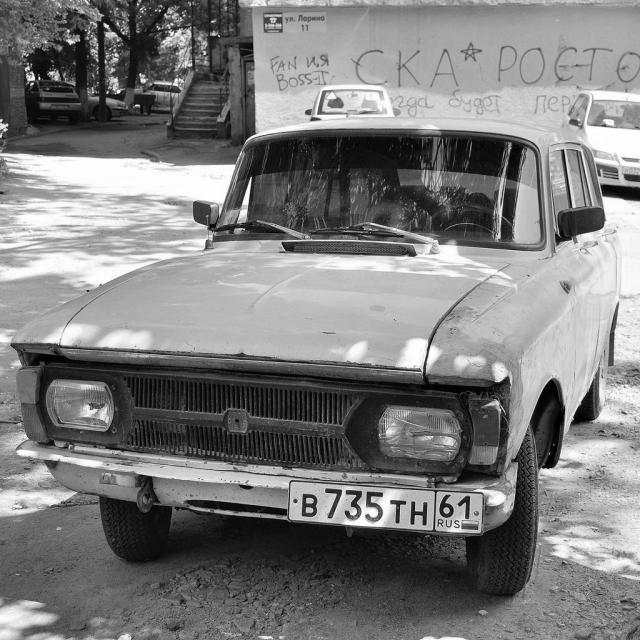plate: (288, 480, 484, 535)
